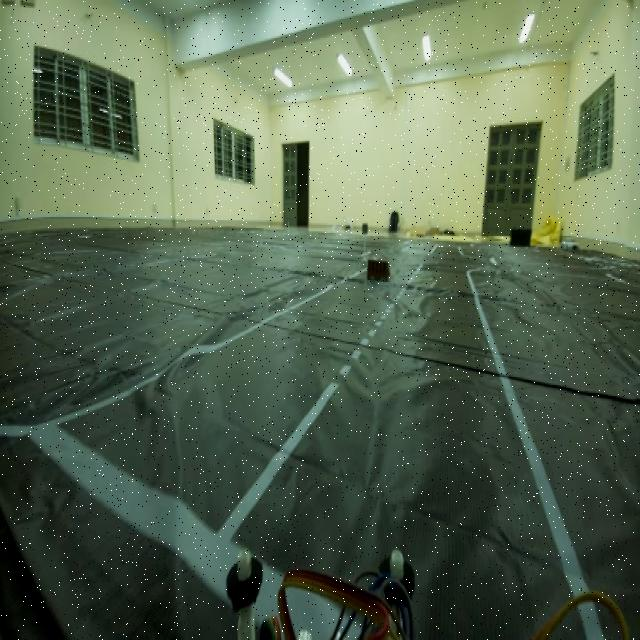roadblock: (363, 252, 393, 287)
